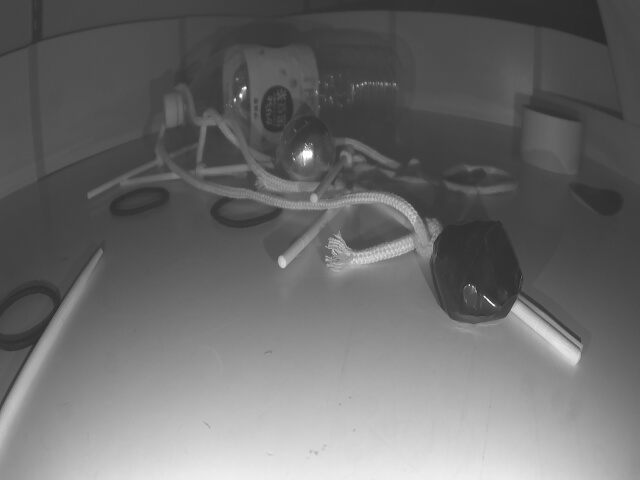Dead: (434, 218, 522, 328)
Live: (278, 113, 336, 185)
Point: (536, 91, 640, 187)
